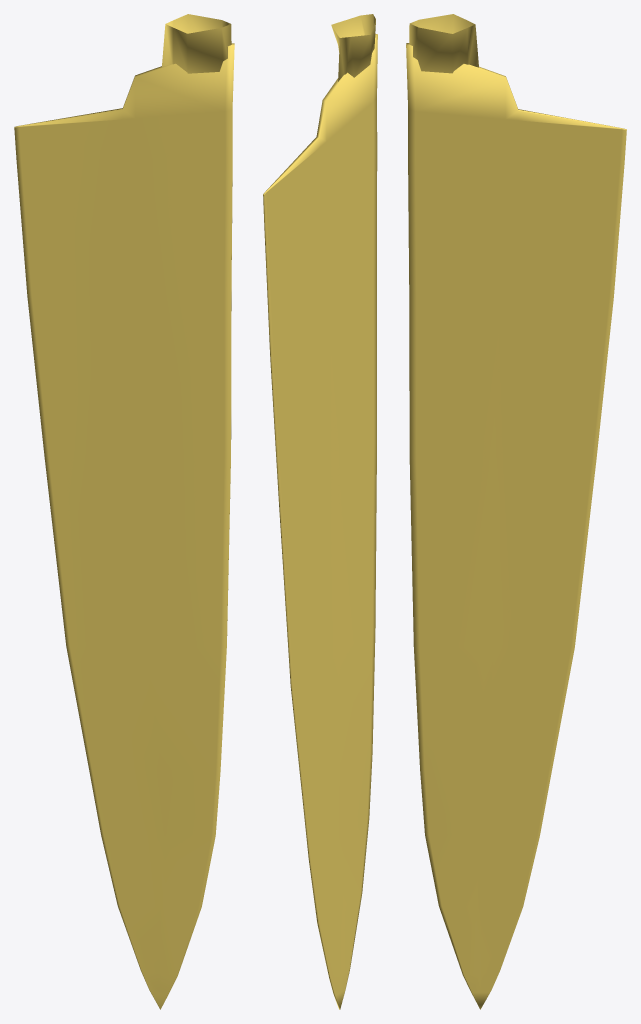
Rendered from MeshCube_013_0_GeomSubset_0.obj.
The picture shows the model from 3 angles, left to right: view 1: azimuth 90°, elevation 25°; view 2: azimuth 150°, elevation 25°; view 3: azimuth 270°, elevation 25°; orthographic projection.
Parts seen in each view (by area): view 1: MeshCube_013_0_GeomSubset_0; view 2: MeshCube_013_0_GeomSubset_0; view 3: MeshCube_013_0_GeomSubset_0.
Part boxes in pixels (<box>): MeshCube_013_0_GeomSubset_0: <box>14,14,234,1009</box>; MeshCube_013_0_GeomSubset_0: <box>263,14,377,1009</box>; MeshCube_013_0_GeomSubset_0: <box>406,14,626,1009</box>.
Bounding box in the file's own units: 0.00918 × 0.2118 × 0.0429.
